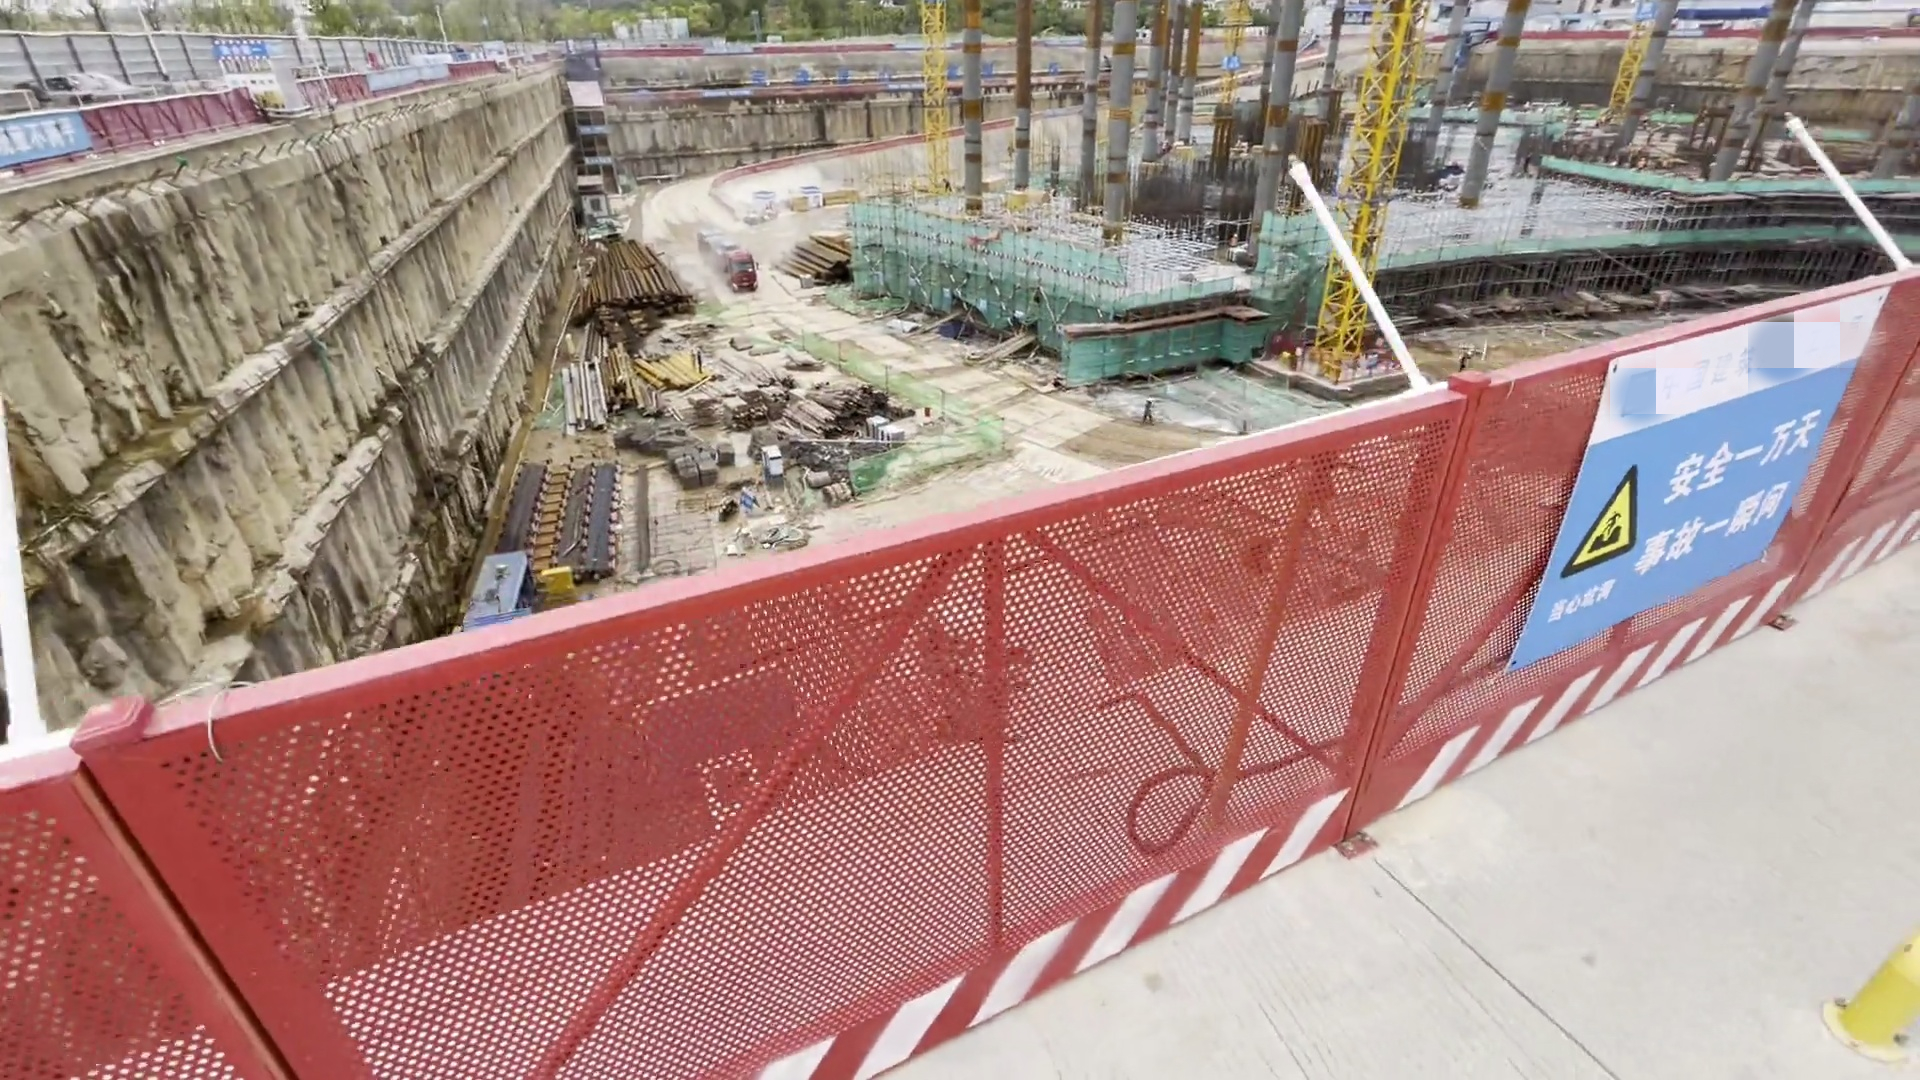brick: (867, 416, 905, 453)
ebox: (523, 563, 580, 598), (1320, 363, 1345, 385)
fence: (3, 472, 1527, 1080), (133, 95, 255, 153), (674, 83, 855, 101)
helmet: (1467, 347, 1477, 358), (1145, 396, 1154, 402)
person: (1140, 395, 1156, 428), (1457, 346, 1473, 373)
rebar: (512, 455, 618, 548)
slogan: (1549, 341, 1858, 608), (1, 108, 121, 159), (752, 64, 902, 85)
wood: (695, 387, 892, 423)
